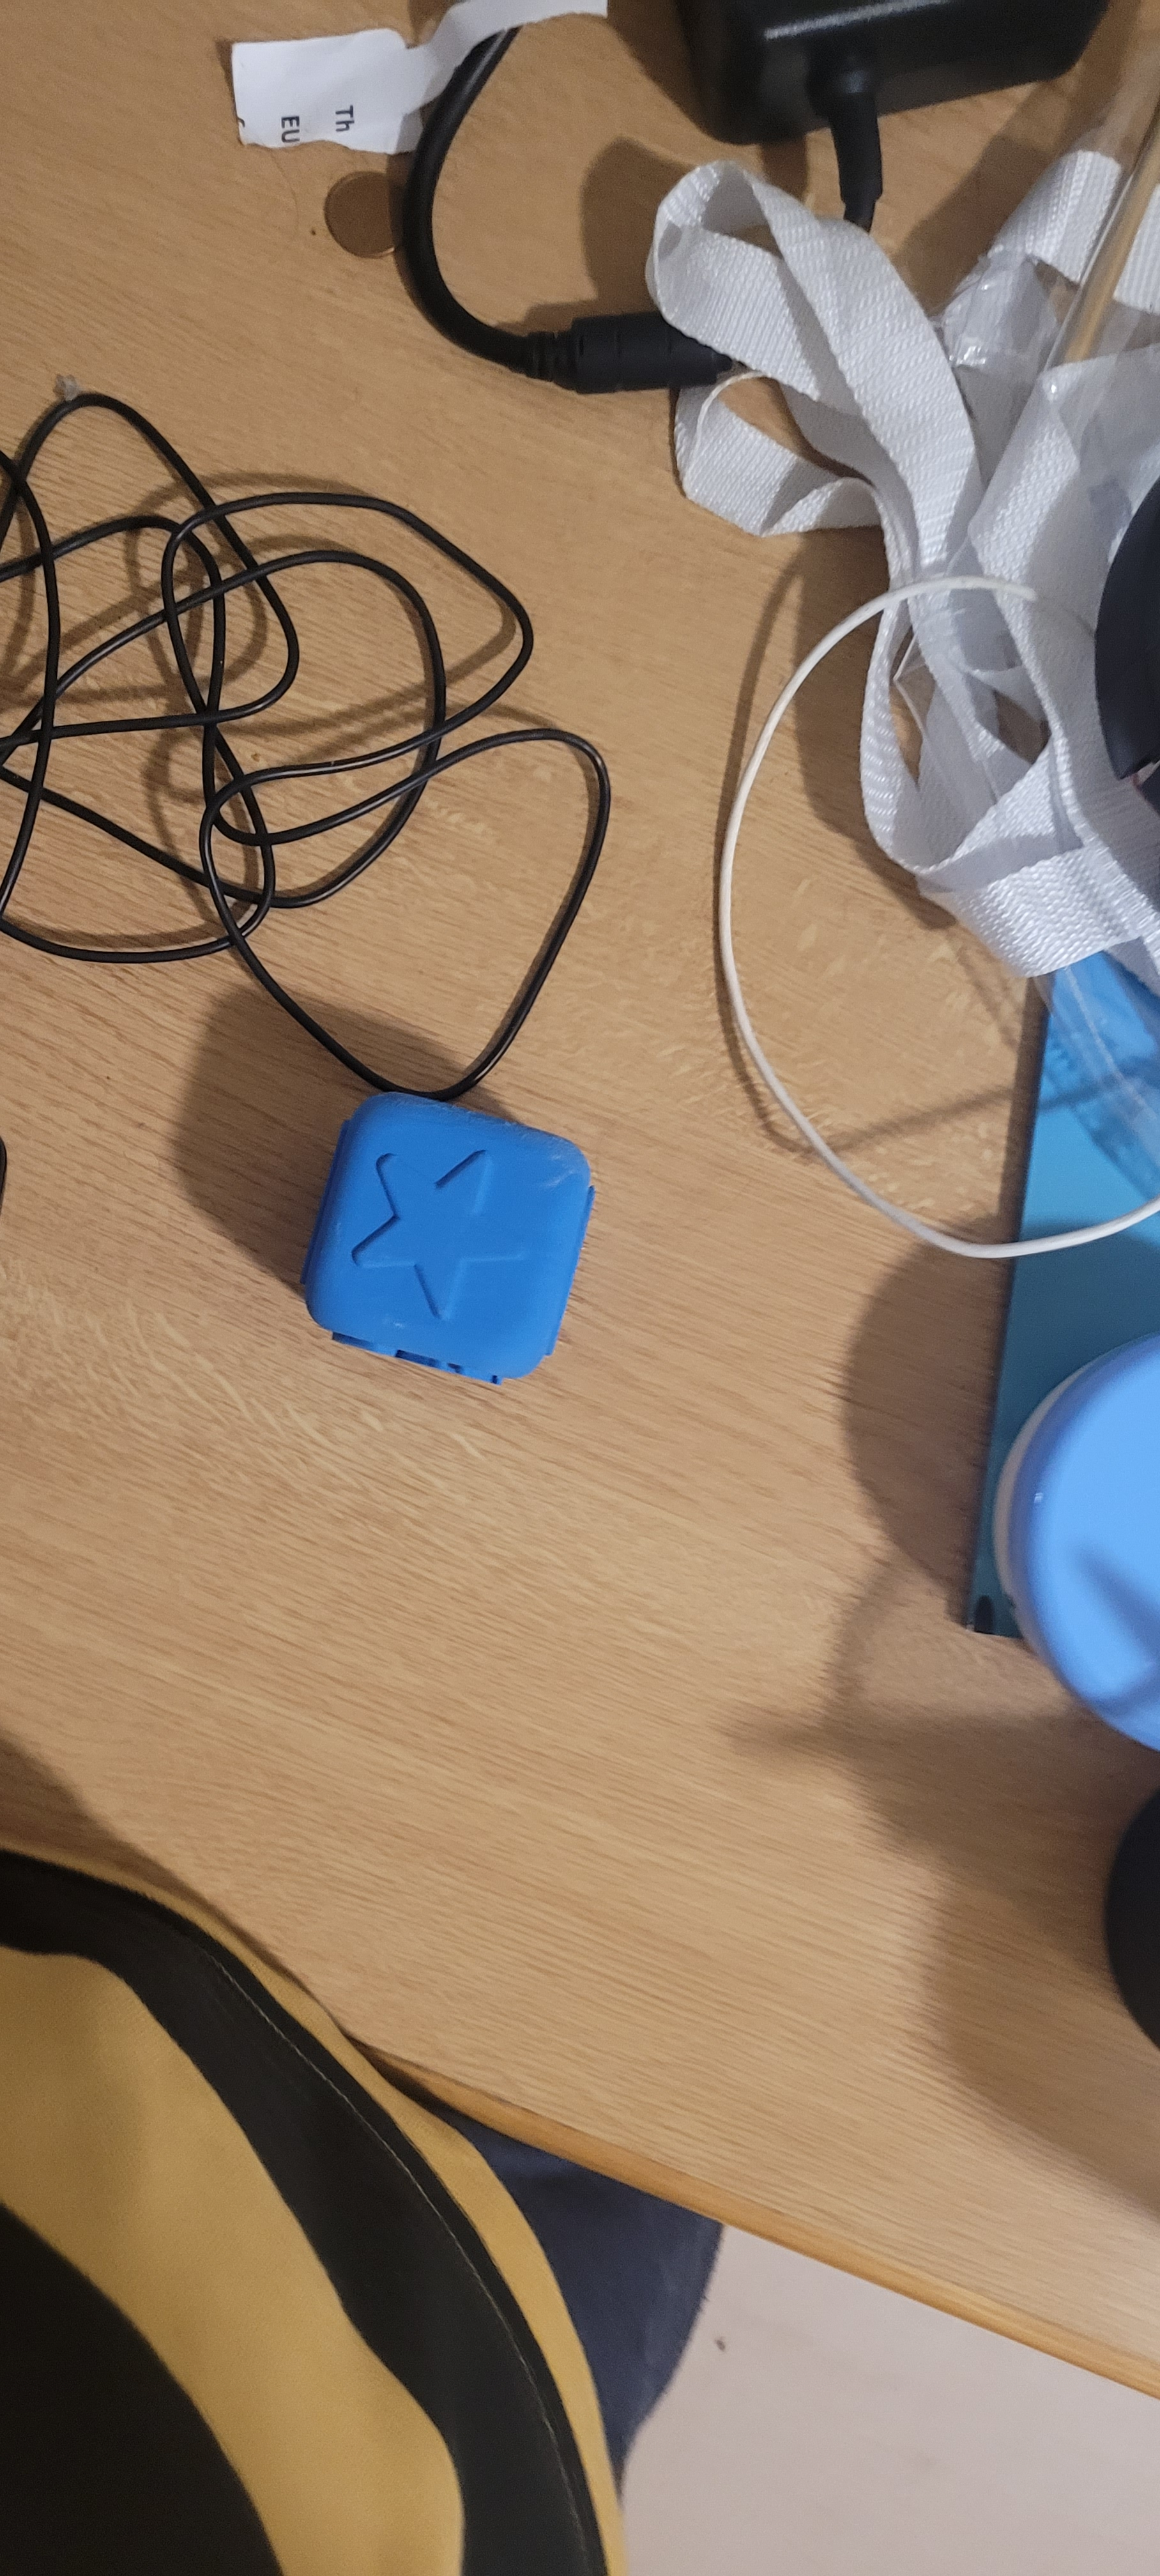Star: (337, 1060, 582, 1347)
